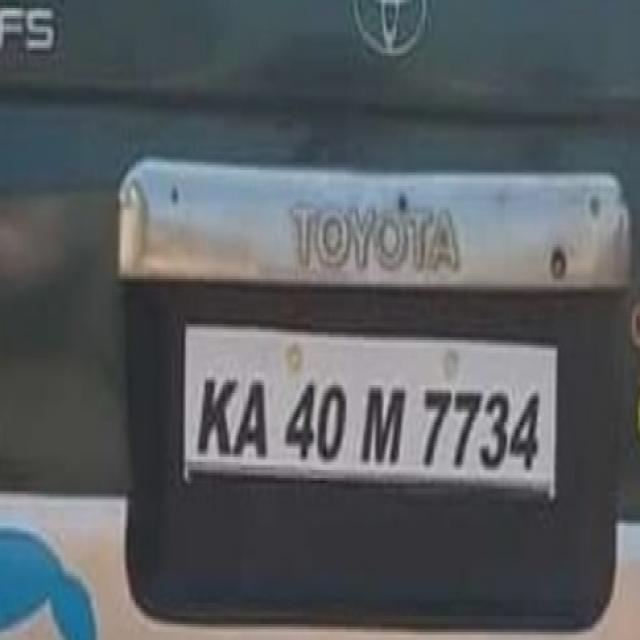0: (318, 372, 348, 465)
3: (484, 386, 512, 479)
4: (282, 370, 316, 466), (510, 386, 544, 478)
7: (452, 364, 484, 479), (423, 373, 454, 472)
A: (236, 370, 270, 464)
K: (196, 362, 234, 468)
M: (359, 372, 411, 466)
